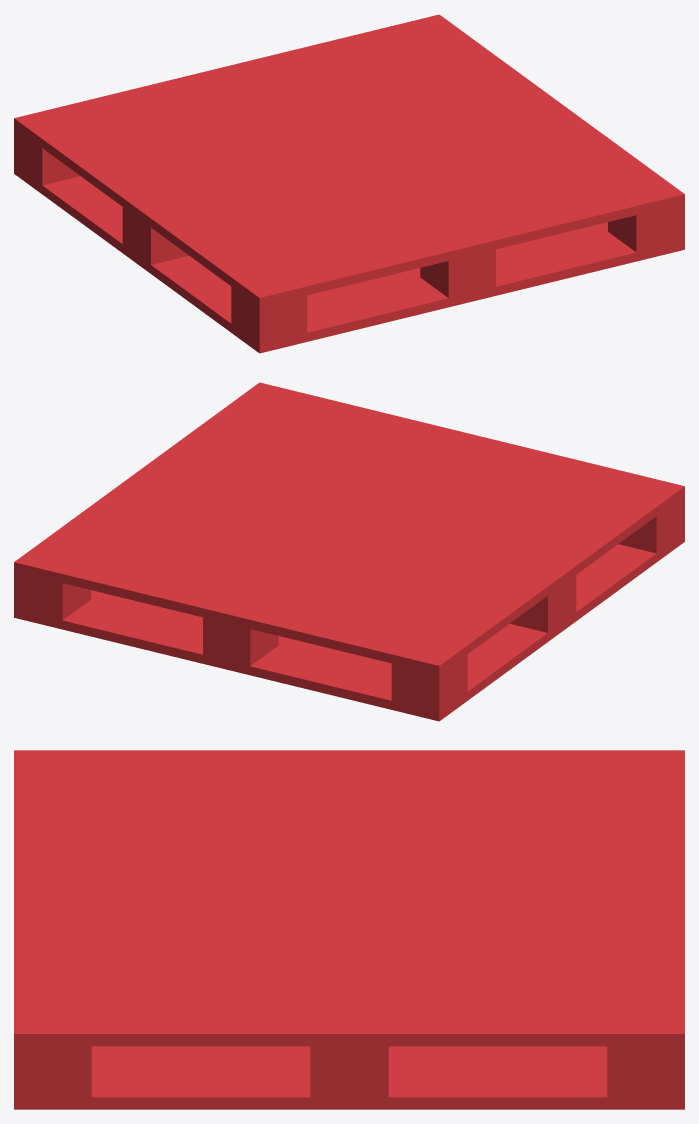
Rendered from m_gen_Pellet.fbx.
3 views of the same model, one above another, from view 1: azimuth 30°, elevation 25°; view 2: azimuth 150°, elevation 25°; view 3: azimuth 270°, elevation 25° (orthographic). The views are drawn at different scales.
Parts seen in each view (by area): view 1: m_gen_cargoCarrier; view 2: m_gen_cargoCarrier; view 3: m_gen_cargoCarrier.
Part boxes in pixels (x1=…): m_gen_cargoCarrier: x1=14, y1=14, x2=684, y2=353; m_gen_cargoCarrier: x1=14, y1=382, x2=684, y2=721; m_gen_cargoCarrier: x1=14, y1=750, x2=684, y2=1109.
Size of the model in its own units: 98.07 by 12.23 by 98.07.
